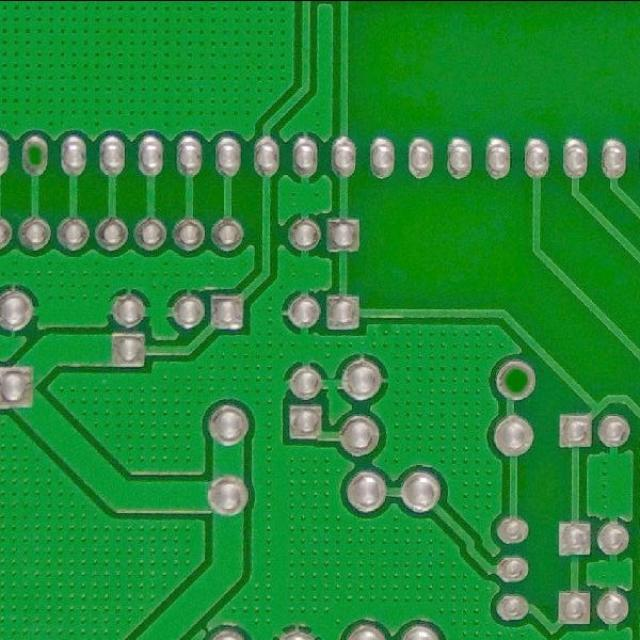missing_hole: (487, 352, 541, 404), (16, 134, 51, 172)
